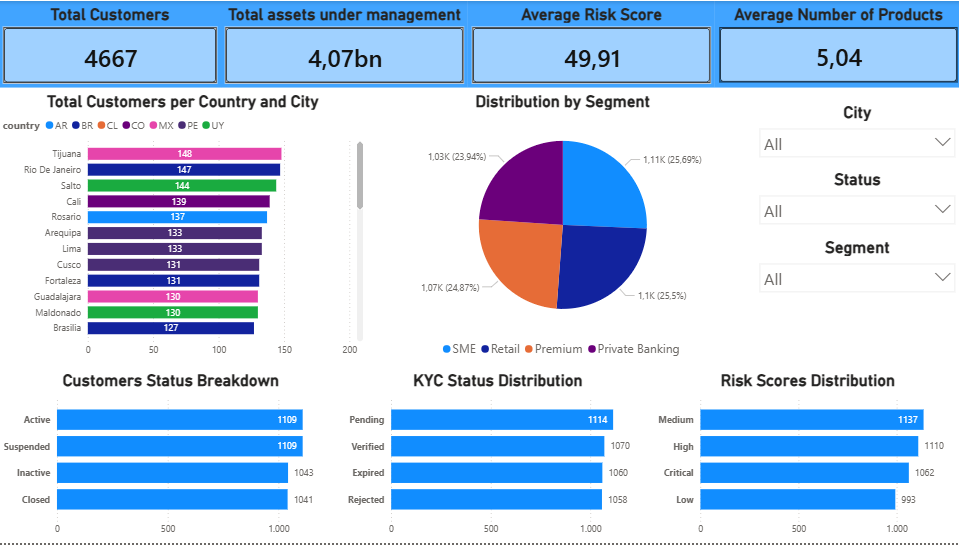

The dashboard page shown, as its layout file describes it:
{"tool":"powerbi","page":{"name":"Executive Overview","canvas":[1280,720],"ordinal":0},"visuals":[{"type":"cardVisual","title":"Total Customers","fields":{"Data":["Count(gold gold_customer_summary.customer_id)"]},"box":[0,0,295,115],"z":0},{"type":"cardVisual","title":"Total assets under management","fields":{"Data":["Sum(gold gold_financial_summary.total_balance)"]},"box":[295,0,328.3,115],"z":1000},{"type":"cardVisual","title":"Average Risk Score","fields":{"Data":["Avg(gold gold_customer_summary.risk_score)"]},"box":[623.1,0,328.5,115.1],"z":2000},{"type":"cardVisual","title":"Average Number of Products","fields":{"Data":["Avg(gold gold_customer_summary.num_products)"]},"box":[951.7,0,328.3,115],"z":3000},{"type":"barChart","title":"Total Customers per Country and City","fields":{"Category":["gold gold_customer_summary.city"],"Y":["CountNonNull(gold gold_credit_summary.customer_id)"],"Series":["gold gold_customer_summary.country"]},"box":[0,115.7,488.6,365.7],"z":4000},{"type":"pieChart","title":"Distribution by Segment","fields":{"Category":["gold gold_customer_summary.customer_segment"],"Y":["CountNonNull(gold_credit_summary.customer_id)"]},"box":[498.3,115,501.7,366.7],"z":5000},{"type":"clusteredBarChart","title":"Customers Status Breakdown","fields":{"Category":["gold gold_customer_summary.status"],"Y":["CountNonNull(gold gold_credit_summary.customer_id)"]},"box":[0,491.7,456.7,228.3],"z":6000},{"type":"clusteredBarChart","title":"KYC Status Distribution","fields":{"Category":["gold gold_customer_summary.kyc_status"],"Y":["CountNonNull(gold gold_credit_summary.customer_id)"]},"box":[456.7,491.7,411.7,228.3],"z":7000},{"type":"clusteredBarChart","title":"Risk Scores Distribution","fields":{"Category":["gold gold_customer_summary.risk_bucket"],"Y":["CountNonNull(gold gold_credit_summary.customer_id)"]},"box":[868.3,491.7,411.7,228.3],"z":8000},{"type":"slicer","title":"City","fields":{"Values":["gold gold_customer_summary.city"]},"box":[1000,135,280,90],"z":9000},{"type":"slicer","title":"Segment","fields":{"Values":["gold gold_customer_summary.Segment"]},"box":[1000,315,280,90],"z":10000},{"type":"slicer","title":"Status","fields":{"Values":["gold gold_customer_summary.status"]},"box":[1000,225,280,90],"z":11000}]}

Visuals, with their boxes in screenshot pixels (x1, y1, x2, y2), scaled from the page's 1280x720 canvas onto the 959x545 screenshot:
"Total Customers" cardVisual: [x1=0, y1=0, x2=221, y2=87]
"Total assets under management" cardVisual: [x1=221, y1=0, x2=467, y2=87]
"Average Risk Score" cardVisual: [x1=467, y1=0, x2=713, y2=87]
"Average Number of Products" cardVisual: [x1=713, y1=0, x2=958, y2=87]
"Total Customers per Country and City" barChart: [x1=0, y1=88, x2=366, y2=364]
"Distribution by Segment" pieChart: [x1=373, y1=87, x2=749, y2=365]
"Customers Status Breakdown" clusteredBarChart: [x1=0, y1=372, x2=342, y2=544]
"KYC Status Distribution" clusteredBarChart: [x1=342, y1=372, x2=651, y2=544]
"Risk Scores Distribution" clusteredBarChart: [x1=651, y1=372, x2=958, y2=544]
"City" slicer: [x1=749, y1=102, x2=958, y2=170]
"Segment" slicer: [x1=749, y1=238, x2=958, y2=307]
"Status" slicer: [x1=749, y1=170, x2=958, y2=238]
